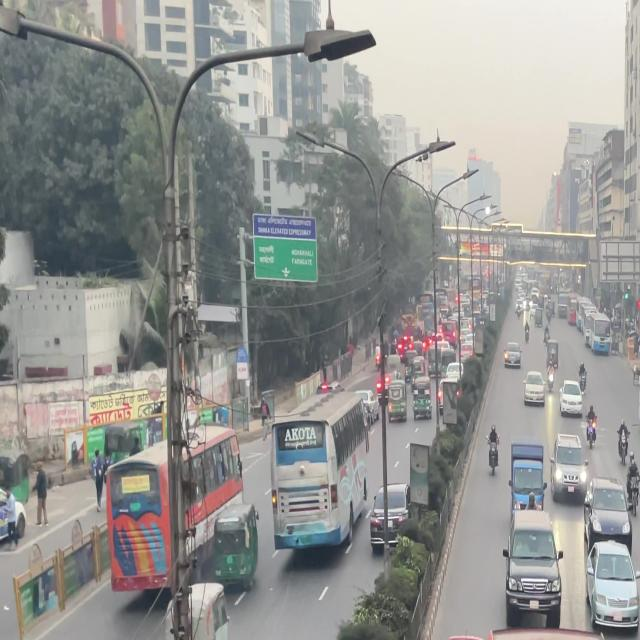bus: (103, 430, 250, 600), (271, 402, 369, 551), (103, 452, 175, 596), (470, 633, 640, 639)
car: (504, 521, 562, 624), (587, 542, 640, 632), (587, 487, 634, 548), (0, 490, 22, 550), (524, 374, 548, 406), (502, 347, 521, 366), (418, 637, 487, 640)
rickshaw: (164, 582, 232, 640)
van: (512, 441, 548, 508)
